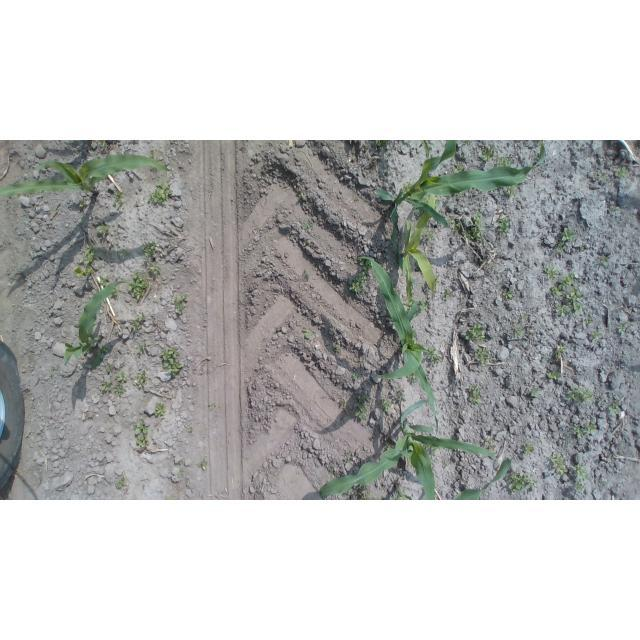Maize: (376, 141, 551, 248), (319, 398, 502, 500), (359, 255, 441, 418), (1, 154, 176, 199), (61, 276, 130, 369), (389, 193, 440, 306), (389, 457, 515, 500)
Weeds: (74, 242, 99, 282), (452, 213, 484, 242), (160, 344, 184, 378), (572, 420, 601, 444), (128, 269, 149, 302), (506, 469, 537, 491), (564, 384, 598, 404), (573, 460, 592, 492), (149, 181, 174, 205), (133, 419, 152, 449), (463, 320, 487, 343), (97, 273, 119, 297), (471, 345, 493, 368), (355, 395, 371, 426), (467, 382, 485, 407), (141, 238, 161, 260), (172, 292, 192, 314), (552, 342, 571, 365), (551, 452, 570, 475), (569, 289, 587, 312), (134, 369, 151, 392), (347, 485, 373, 500), (423, 347, 442, 366), (129, 313, 147, 333), (359, 256, 374, 280), (116, 371, 130, 396), (521, 441, 540, 459), (350, 276, 367, 296), (94, 343, 110, 364), (378, 395, 394, 416), (97, 222, 116, 239), (498, 217, 512, 238), (560, 228, 577, 245), (98, 378, 114, 396), (143, 260, 161, 276), (114, 474, 131, 490), (544, 265, 562, 280), (415, 295, 430, 313), (153, 400, 167, 419), (394, 388, 410, 404), (588, 327, 605, 342), (502, 184, 520, 198), (111, 189, 125, 207), (452, 162, 472, 174), (614, 166, 629, 182), (549, 243, 565, 258), (561, 271, 576, 286), (479, 144, 493, 160), (555, 302, 570, 316), (551, 282, 564, 298), (300, 216, 313, 232), (599, 252, 610, 270), (609, 403, 622, 418), (330, 342, 345, 355), (545, 370, 561, 382), (442, 286, 454, 302), (103, 361, 117, 374), (136, 341, 148, 355), (177, 468, 189, 482), (482, 438, 496, 450), (529, 386, 539, 402), (581, 315, 594, 327), (117, 248, 130, 260), (498, 155, 509, 169), (296, 188, 306, 203), (513, 324, 525, 336), (608, 203, 621, 214), (201, 457, 211, 471), (303, 327, 313, 341), (301, 269, 310, 284), (503, 288, 516, 298), (618, 325, 627, 338), (352, 369, 362, 380), (407, 373, 418, 383), (518, 314, 530, 323), (429, 444, 437, 456), (186, 424, 194, 435), (303, 239, 312, 247), (209, 402, 218, 410), (578, 243, 584, 251)
